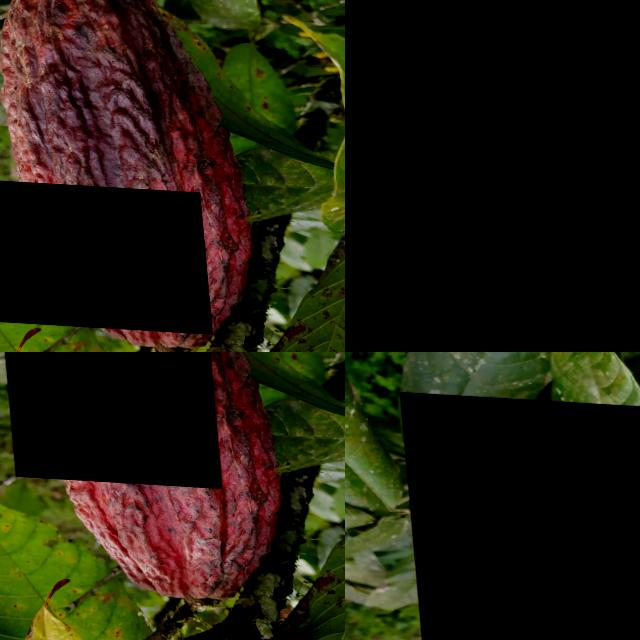Fitoftora: (399, 389, 640, 640), (0, 352, 215, 483)
Monilia: (345, 0, 640, 352), (0, 167, 203, 329)
